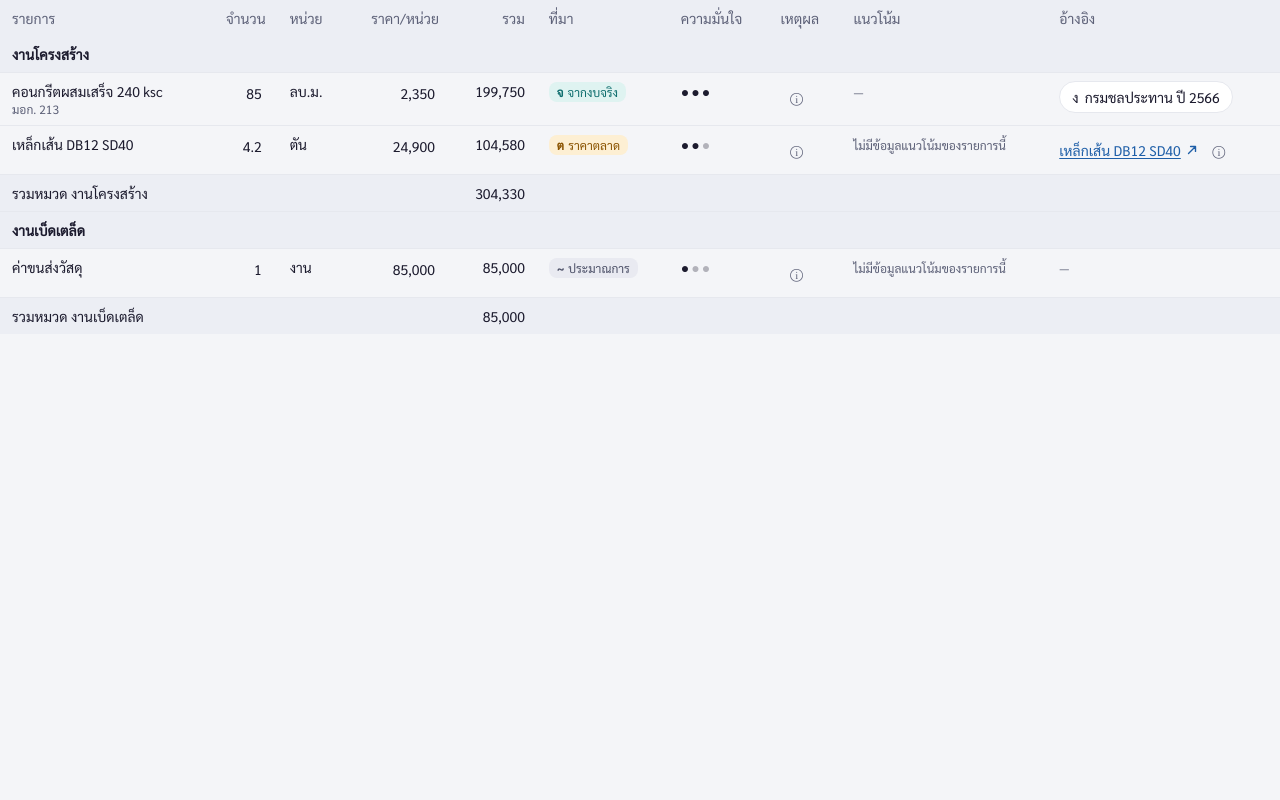
Test case: BoqTable › ⓘ เหตุผล › เปิด popover แสดง rationale เต็มของบรรทัด
Step 1. Click the 2nd button "ⓘ" → (796, 150), box x1=780 y1=134 x2=812 y2=166
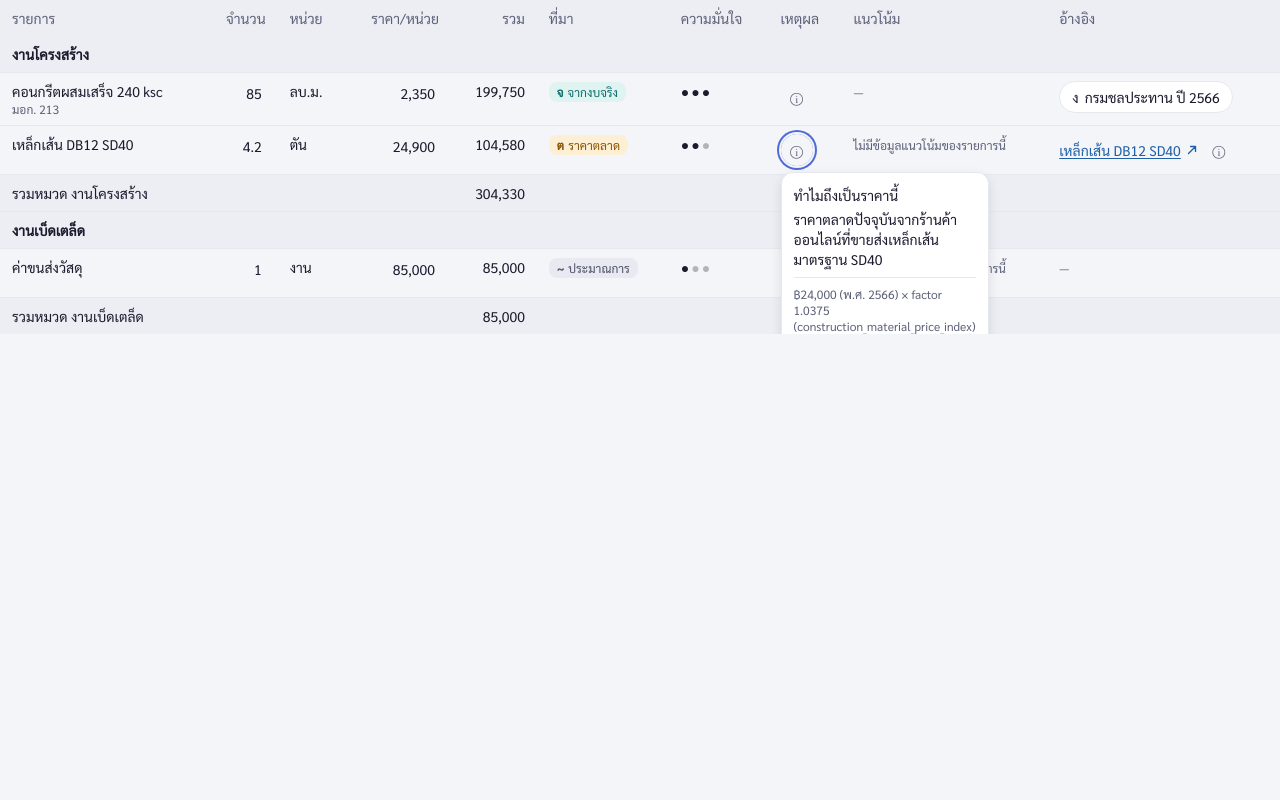
Result: the text "ราคาตลาดปัจจุบันจากร้านค้าออนไลน์ที่ขายส่งเหล็กเส้นมาตรฐาน SD40" is shown at x1=794 y1=209 x2=976 y2=269
Result: the text "construction_material_price_index" is shown at x1=797 y1=318 x2=972 y2=334
